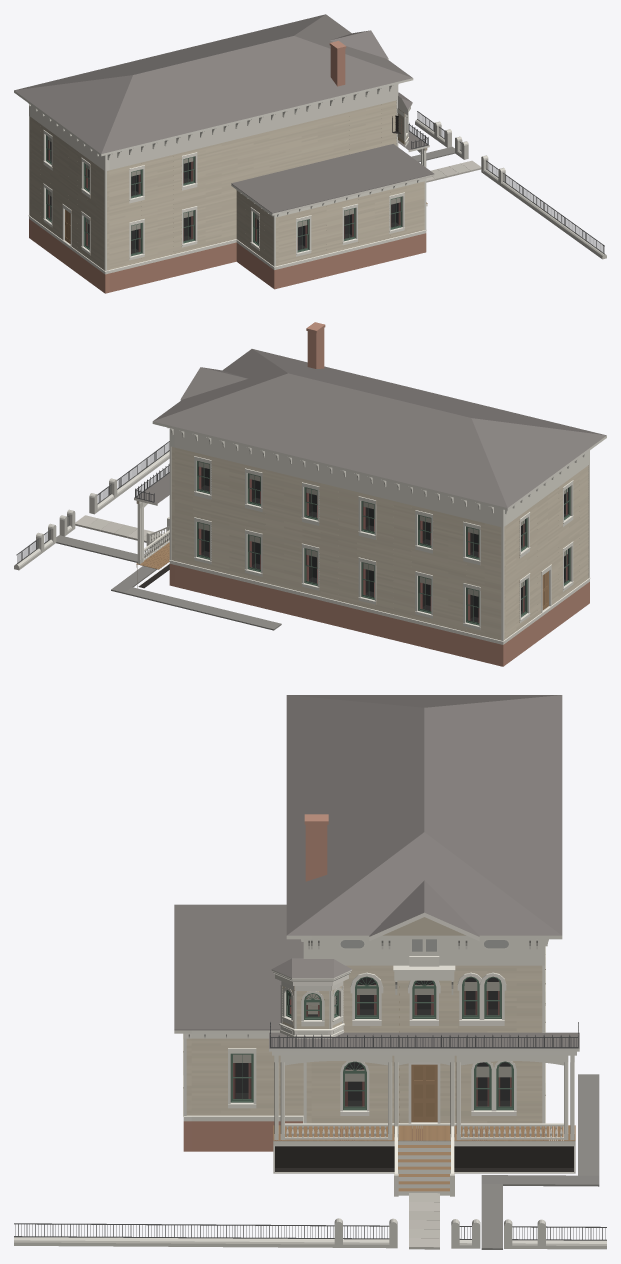
Rendered from walker_house_1720_prairie__as_mapped_1904.glb.
3 renders of one model, top to bottom at view 1: azimuth 30°, elevation 25°; view 2: azimuth 150°, elevation 25°; view 3: azimuth 270°, elevation 25°, orthographic. The views are drawn at different scales.
Visible parts, largest first — view 1: walker_house_1720_prairie__as_mapped_1904; view 2: walker_house_1720_prairie__as_mapped_1904; view 3: walker_house_1720_prairie__as_mapped_1904.
Part boxes in pixels (left/top/right/bottom): walker_house_1720_prairie__as_mapped_1904: left=14, top=14, right=606, bottom=293; walker_house_1720_prairie__as_mapped_1904: left=14, top=322, right=606, bottom=666; walker_house_1720_prairie__as_mapped_1904: left=14, top=695, right=606, bottom=1249.
Size of the model in its own units: 31.95 by 13.75 by 24.72.
